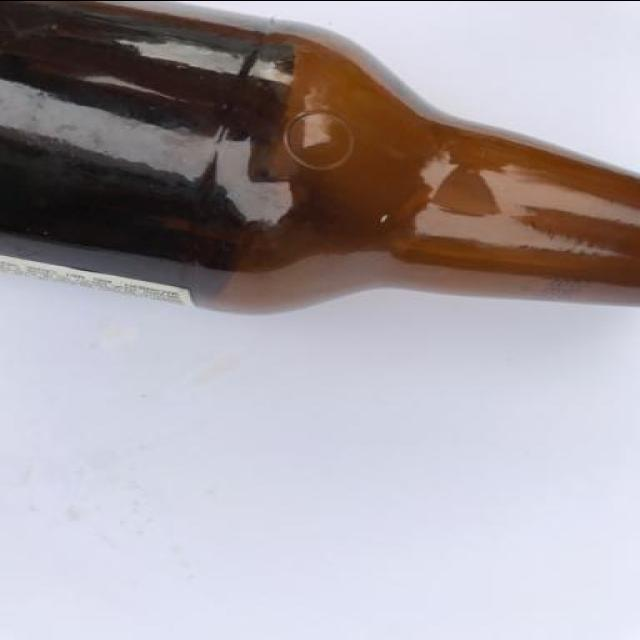litter: (1, 1, 636, 312)
